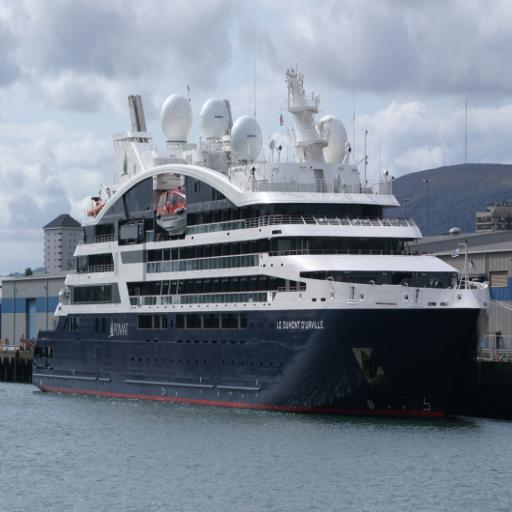cruises: (28, 67, 491, 435)
